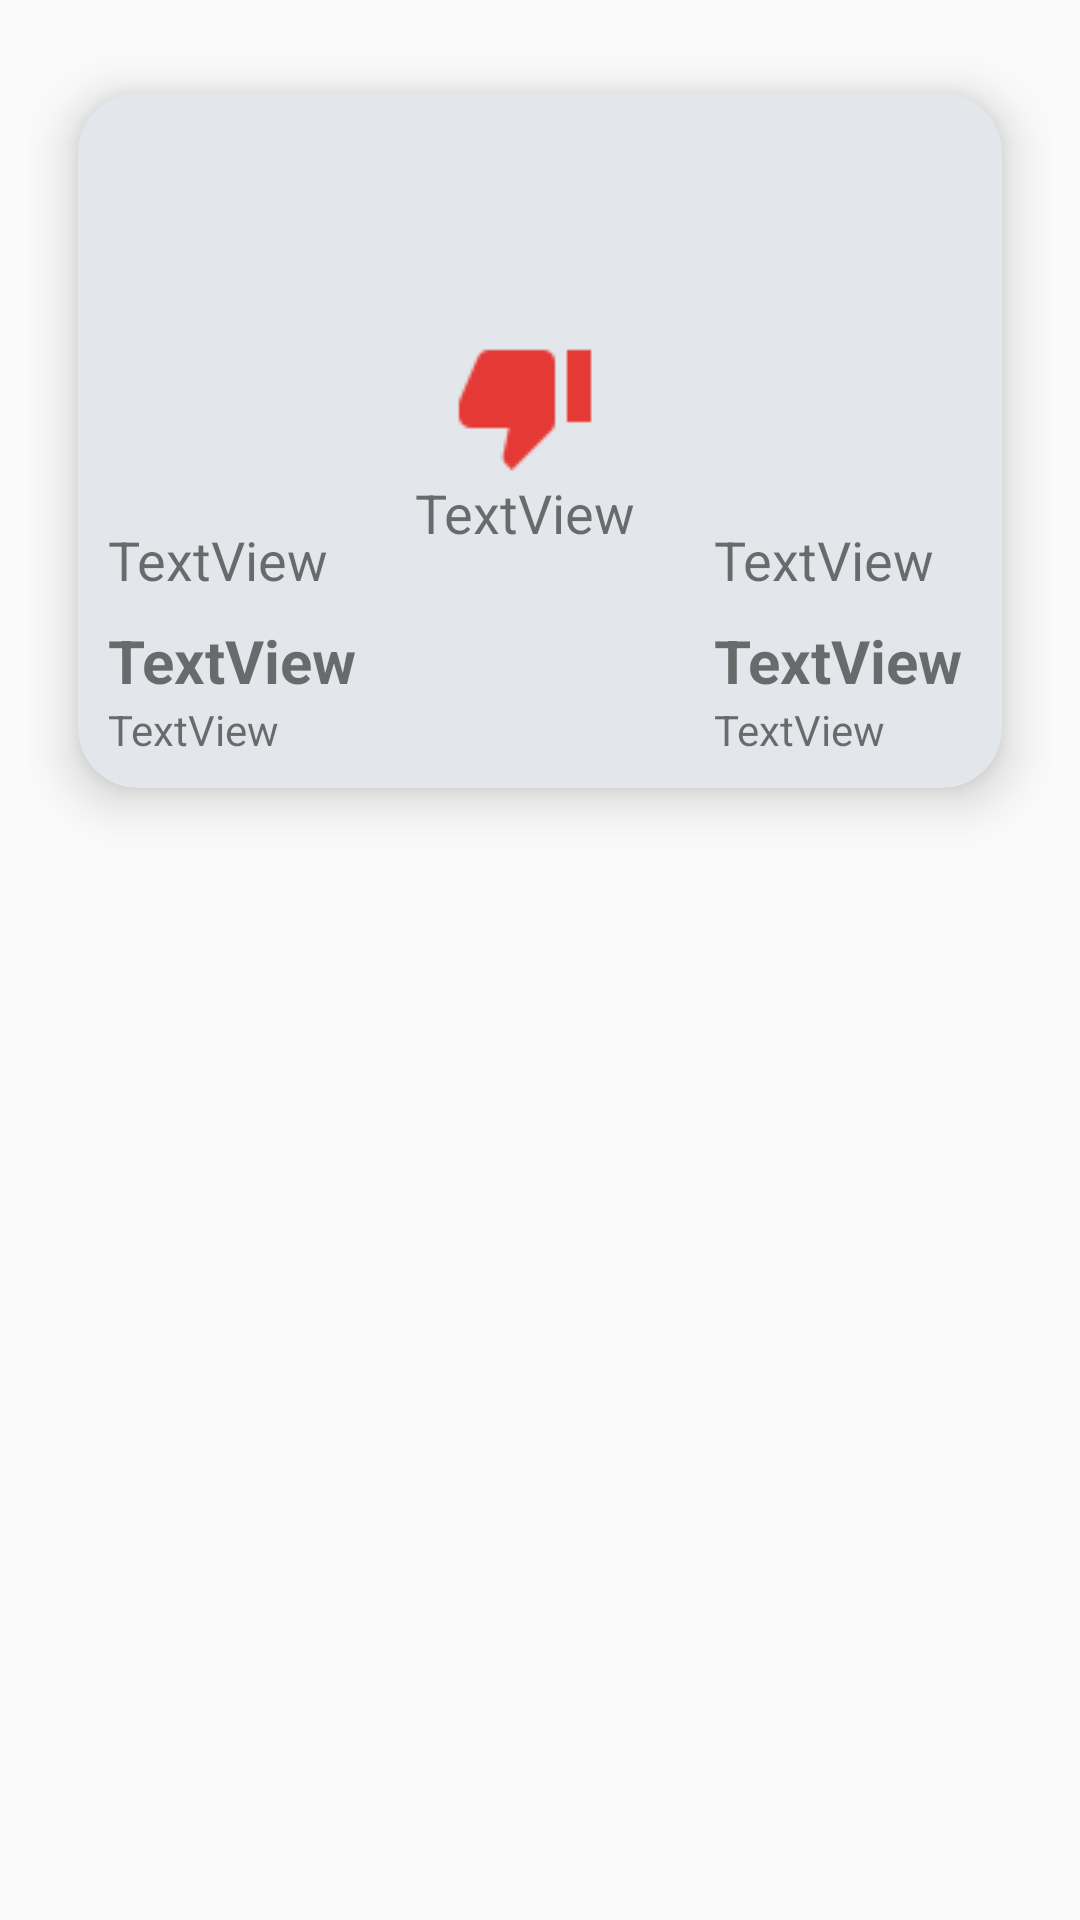

Point at icon controls on the screen. Image size 1080 × 1920, points as (x,y).
thumb down: (525,410)
